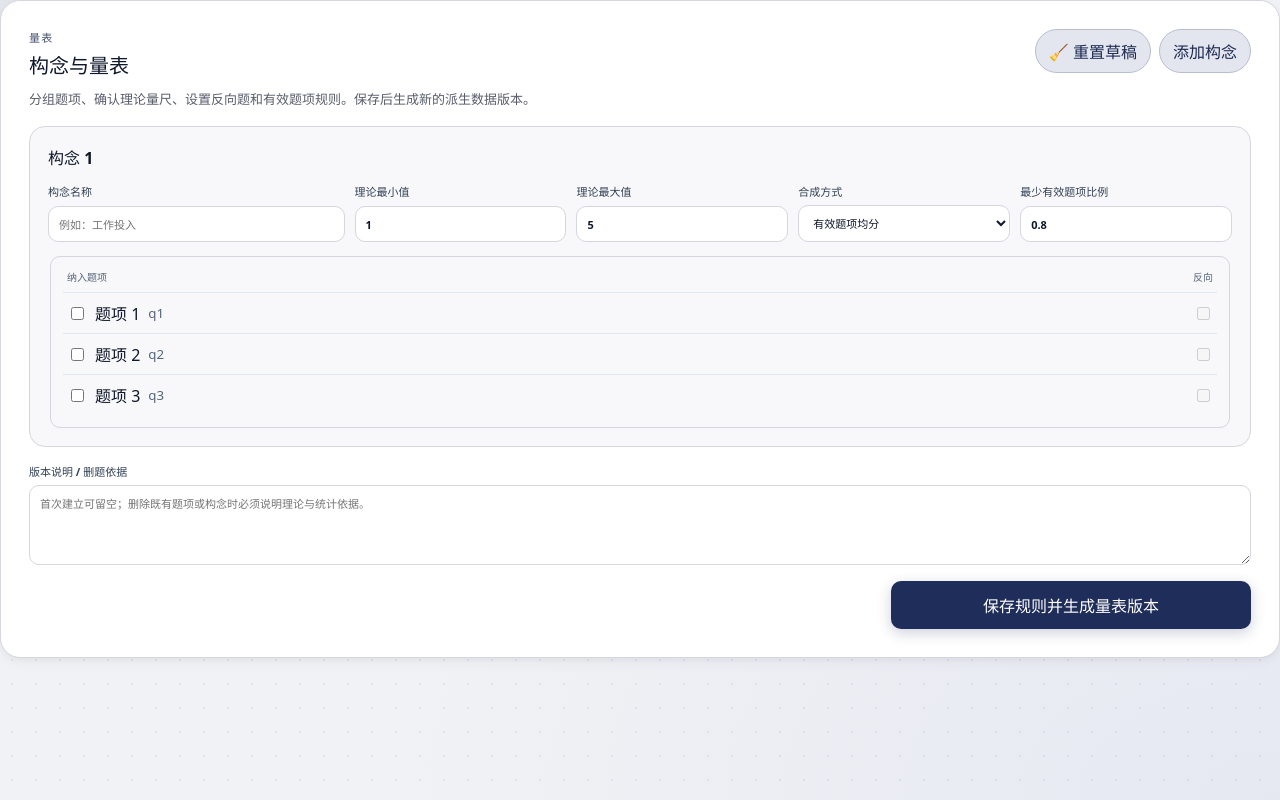
Test case: MeasurementWorkspace › does not submit an incomplete construct
The width and height of the screenshot is (1280, 800).
Step 1. Click the button "保存规则并生成量表版本" → (1071, 605), box [891,581,1251,629]
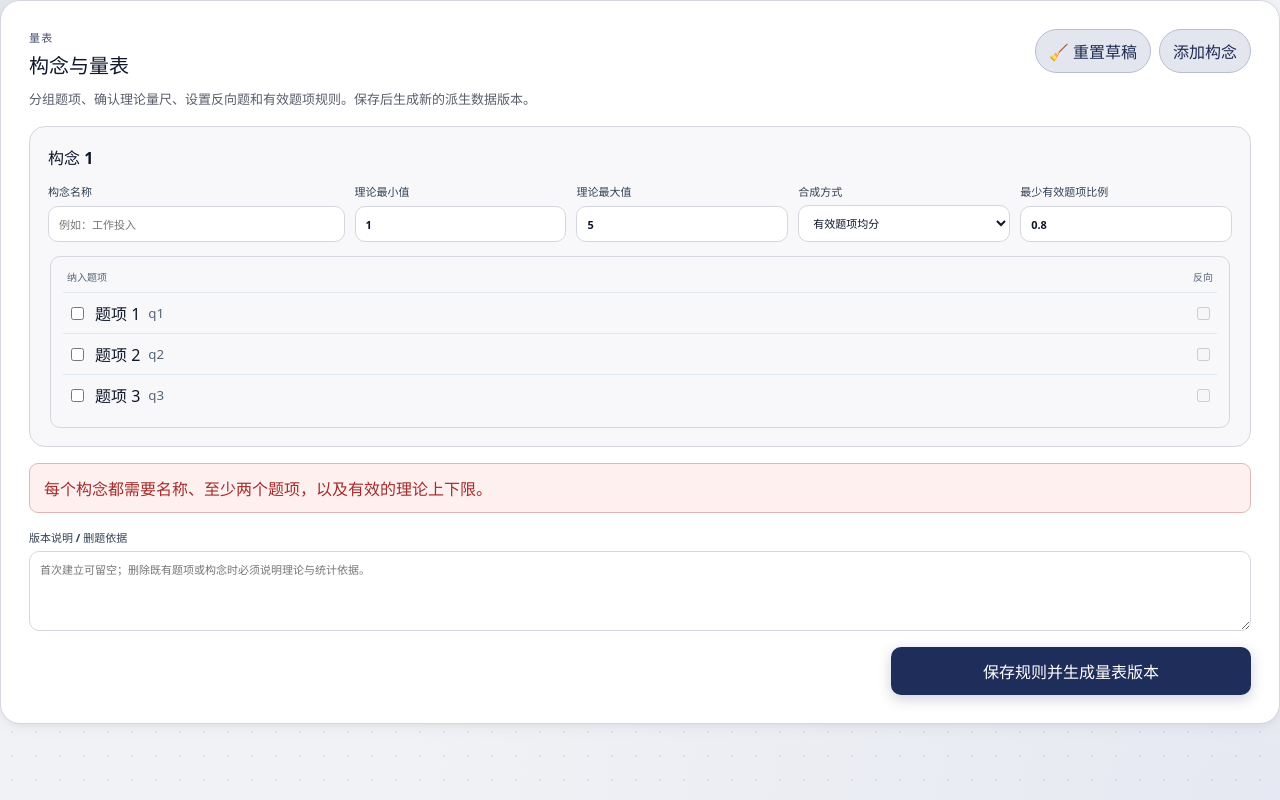
Check: the message shows "至少两个题项", box [44,478,492,500]
